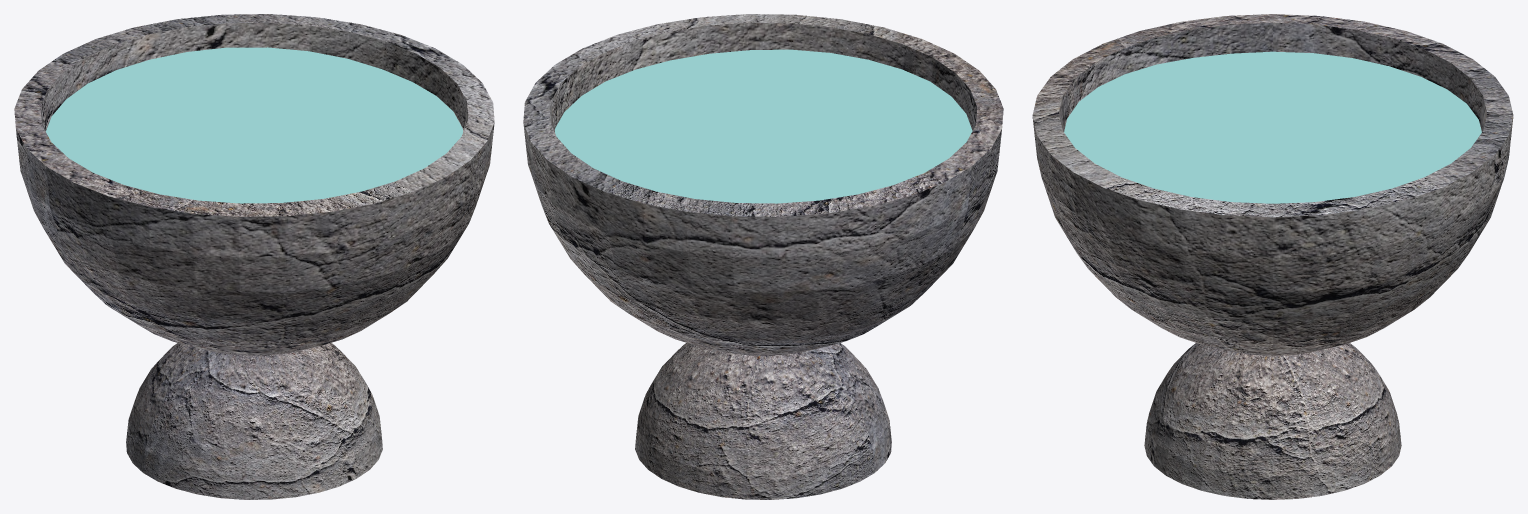
The model's file is reflexion_bowl.fbx.
3 views of the same model, side by side, from view 1: azimuth 30°, elevation 25°; view 2: azimuth 150°, elevation 25°; view 3: azimuth 270°, elevation 25° (orthographic).
Visible parts, largest first — view 1: Sphere.002; view 2: Sphere.002; view 3: Sphere.002.
Part boxes in pixels (bbox=[...]): Sphere.002: bbox=[14, 14, 494, 499]; Sphere.002: bbox=[523, 14, 1003, 499]; Sphere.002: bbox=[1032, 14, 1513, 499].
Size of the model in its own units: 139 by 106 by 139.
2 materials, 1 textured.
